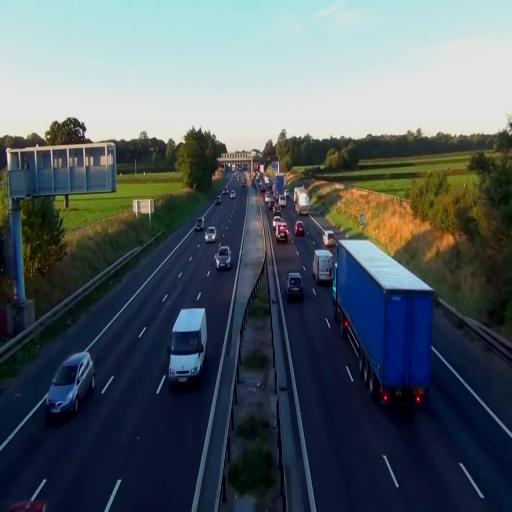vehicle: (332, 233, 434, 405), (167, 306, 208, 389), (46, 350, 95, 419), (313, 249, 335, 286), (286, 273, 304, 301), (214, 244, 232, 270), (274, 218, 290, 244), (294, 220, 306, 238), (205, 225, 217, 242)
